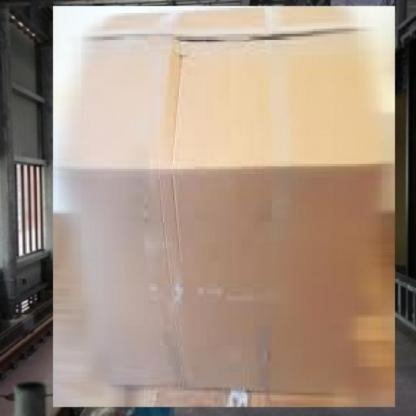box: (48, 0, 401, 414)
